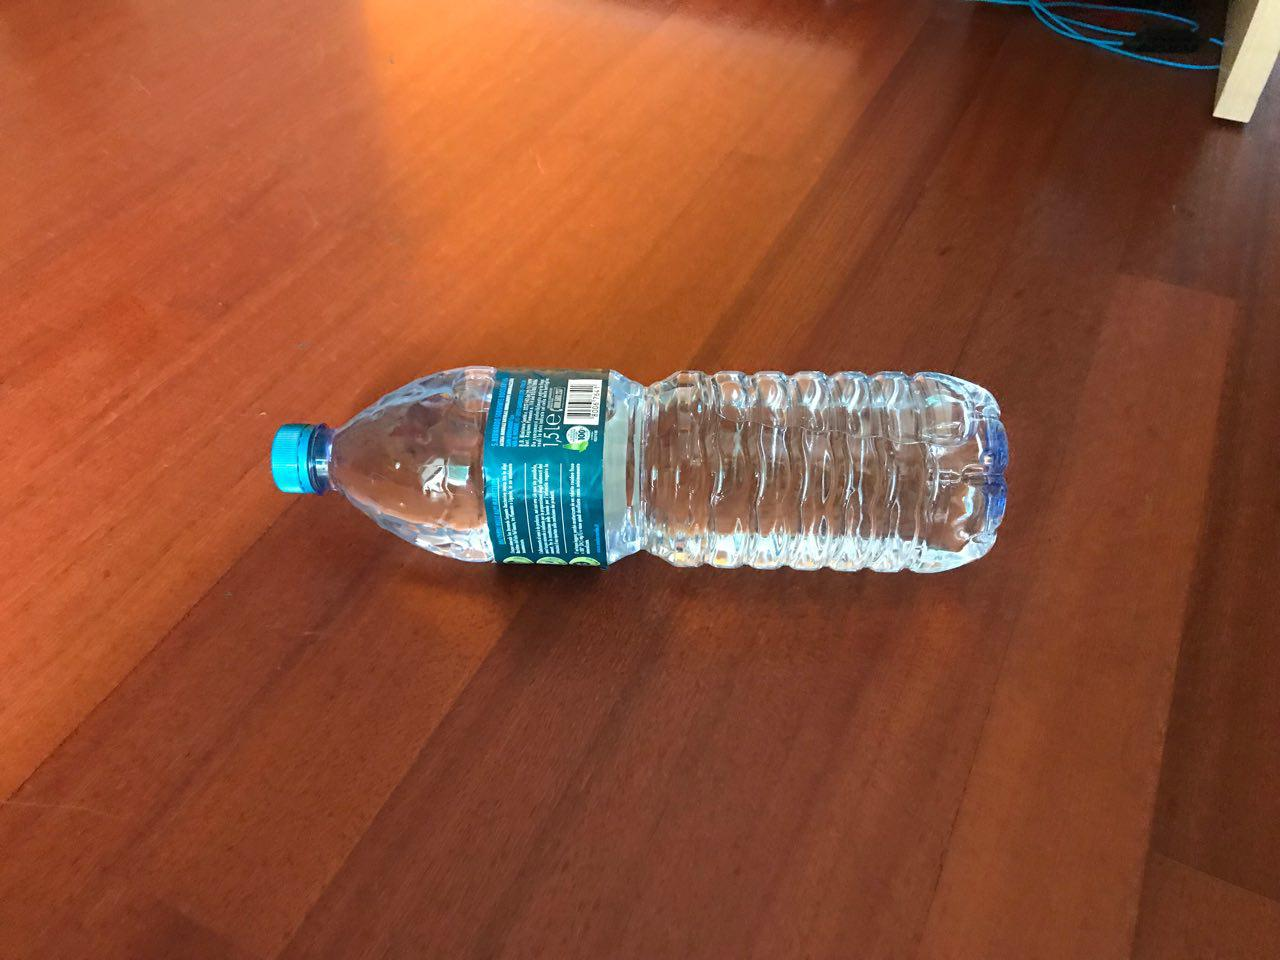san_bernardo: (268, 363, 1010, 577)
